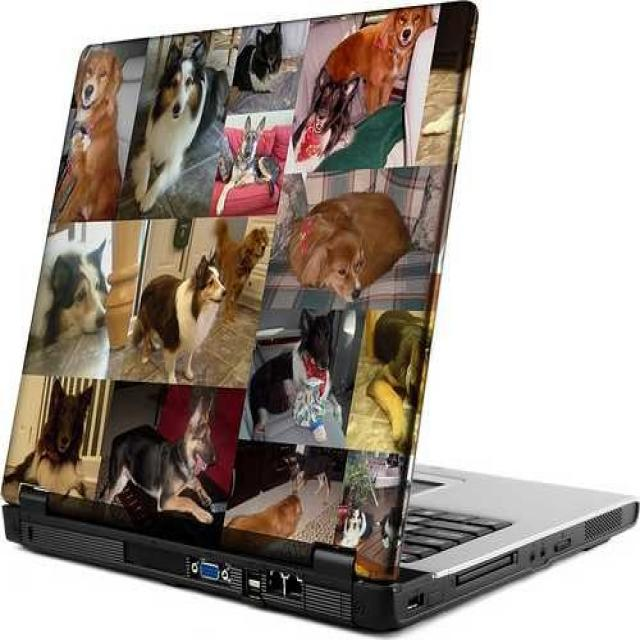laptop: (40, 48, 562, 550)
